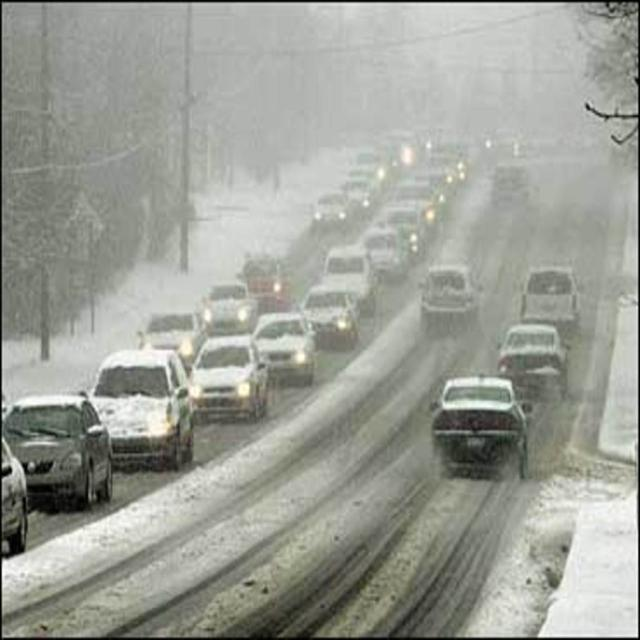car: (6, 391, 114, 514), (91, 348, 198, 472), (431, 375, 529, 481), (188, 335, 272, 427), (252, 313, 320, 388), (521, 266, 581, 343), (499, 324, 565, 389), (317, 245, 373, 313), (301, 286, 359, 348), (422, 262, 478, 318), (141, 313, 203, 362), (203, 280, 253, 329), (397, 178, 437, 238), (239, 259, 290, 303), (488, 160, 532, 209), (364, 225, 404, 276), (384, 204, 422, 256), (311, 195, 354, 229), (356, 152, 388, 186), (343, 176, 371, 214)
